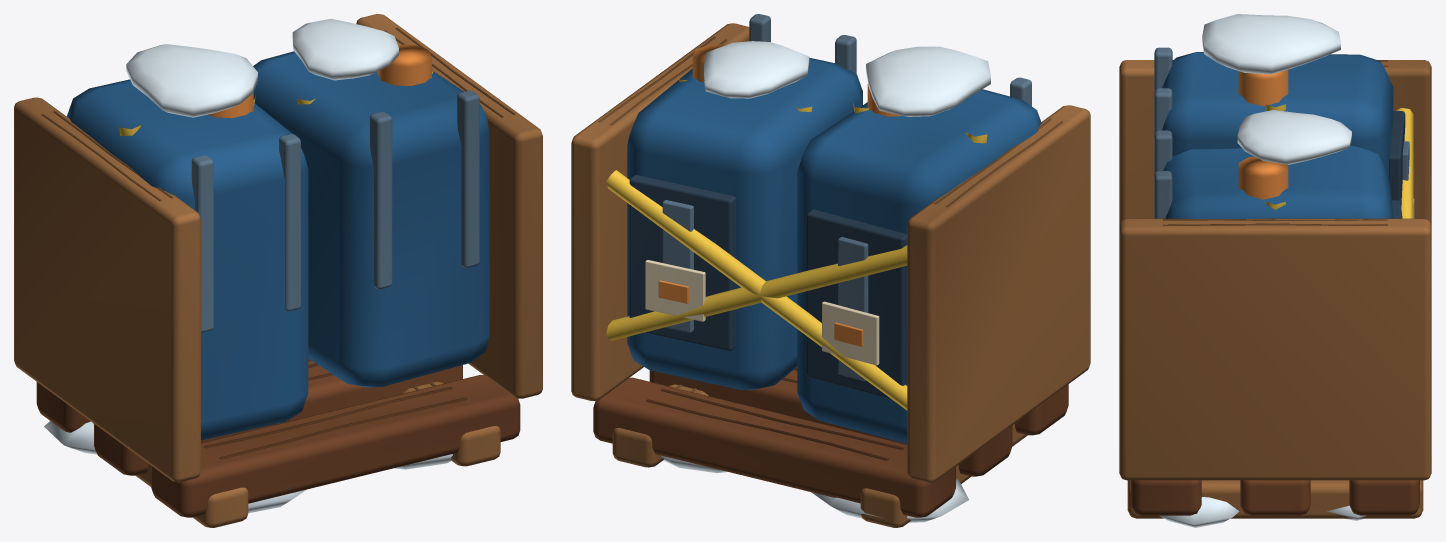
File: fuel_canister.glb
3 views of the same model, side by side, from view 1: azimuth 30°, elevation 25°; view 2: azimuth 150°, elevation 25°; view 3: azimuth 270°, elevation 25° (orthographic). The views are drawn at different scales.
Parts seen in each view (by area): view 1: fuel_canister; view 2: fuel_canister; view 3: fuel_canister.
Part boxes in pixels (x1=…): fuel_canister: x1=14, y1=14, x2=542, y2=527; fuel_canister: x1=571, y1=14, x2=1090, y2=527; fuel_canister: x1=1119, y1=14, x2=1431, y2=527.
Bounding box in the file's own units: 1.02 × 1.09 × 0.78.
